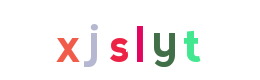J: (59, 0, 139, 80)
L: (89, 0, 169, 80)
S: (89, 0, 169, 80)
T: (151, 0, 231, 80)
X: (34, 0, 114, 80)
Y: (125, 0, 205, 80)
